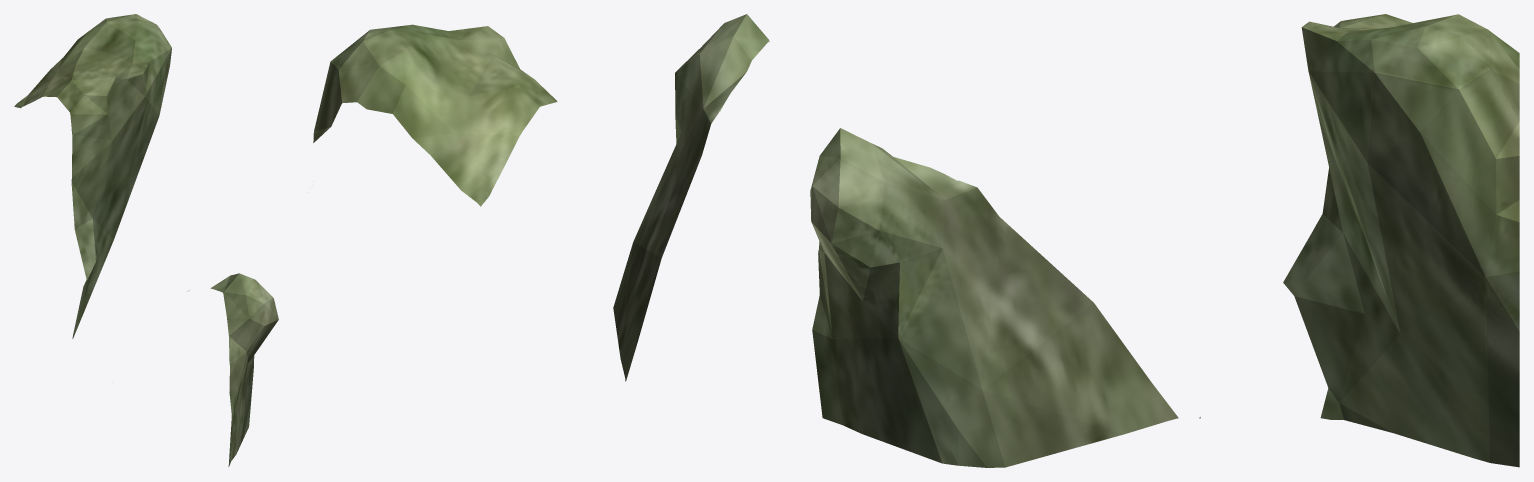
The picture shows the model from 3 angles, left to right: view 1: azimuth 30°, elevation 25°; view 2: azimuth 150°, elevation 25°; view 3: azimuth 270°, elevation 25°; orthographic projection. The views are drawn at different scales.
Size of the model in its own units: 0.6306 by 1.35 by 1.86.
1 material, 1 textured.
